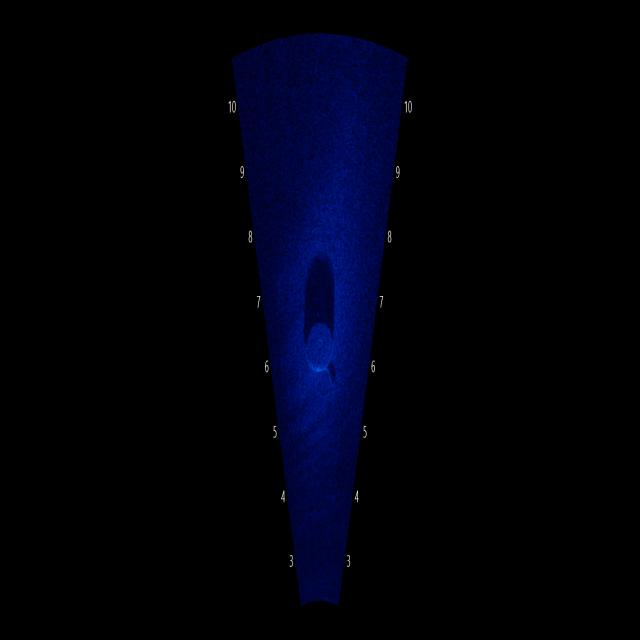circle: (300, 310, 340, 382)
